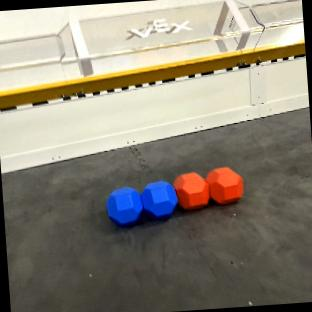V5_BLUE: (106, 180, 176, 225)
V5_RED: (173, 166, 243, 209)
